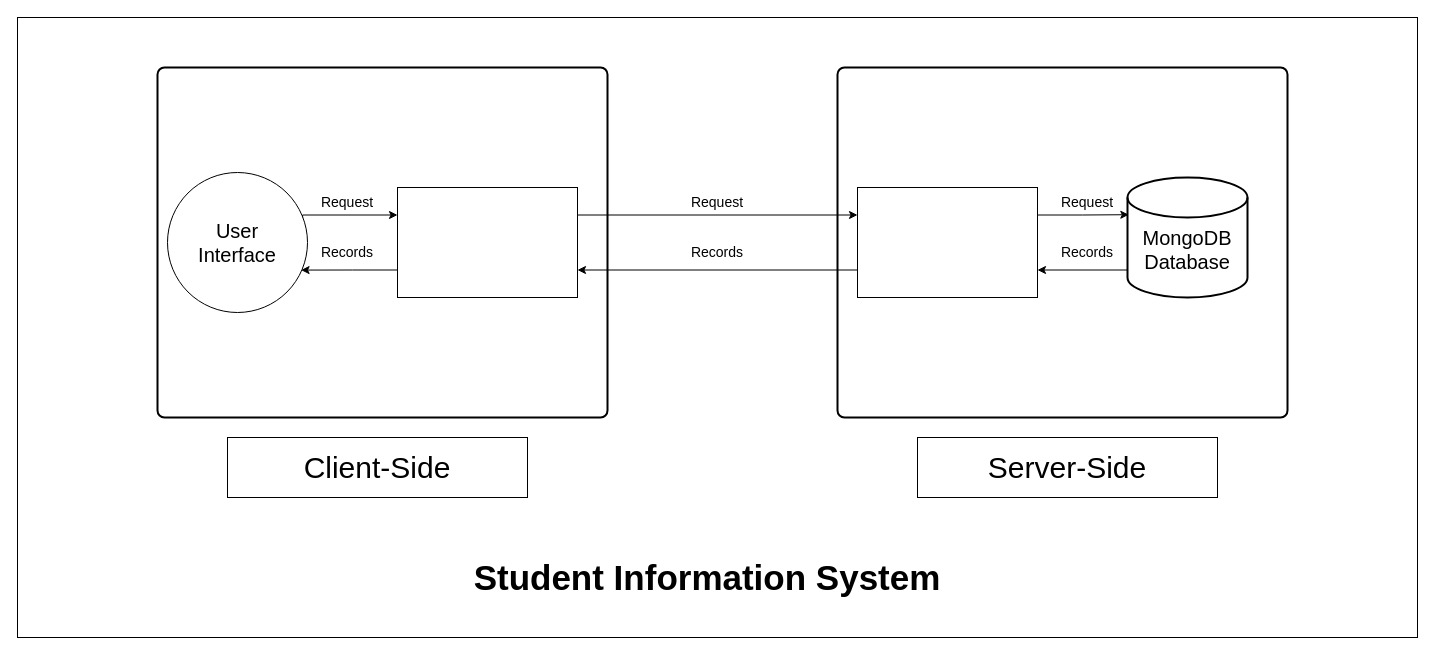
Image size: 1435x655. Some labels were removed from this diagram. The centre of each missing label's shape, as x and y in pixels:
Client-Side Script Engine (script.js): [487,242]
Server-Side Script Engine (server.js): [947,242]
